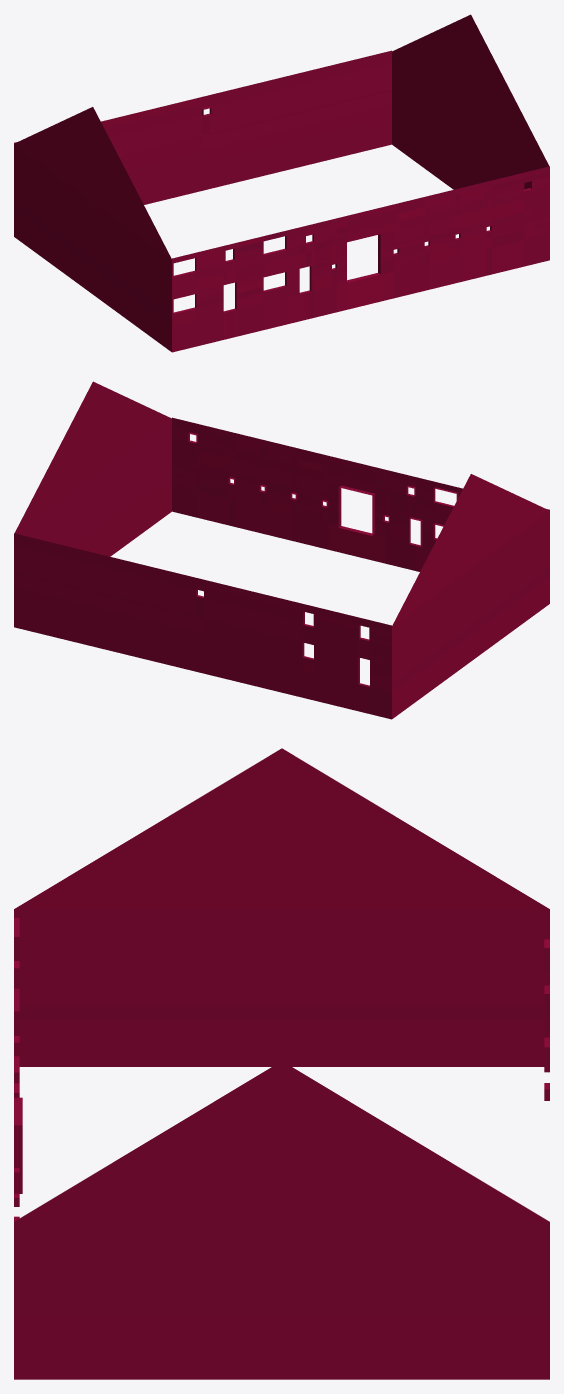
File: SM_Bld_126_Masonry.glb
The picture shows the model from 3 angles, top to bottom: view 1: azimuth 30°, elevation 25°; view 2: azimuth 150°, elevation 25°; view 3: azimuth 270°, elevation 25°; orthographic projection. The views are drawn at different scales.
Parts seen in each view (by area): view 1: SM_Bld_126_Masonry; view 2: SM_Bld_126_Masonry; view 3: SM_Bld_126_Masonry.
Boxes of the visible parts, bbox=[...] form: SM_Bld_126_Masonry: bbox=[14, 14, 549, 352]; SM_Bld_126_Masonry: bbox=[14, 381, 549, 719]; SM_Bld_126_Masonry: bbox=[14, 748, 549, 1379].
Bounding box in the file's own units: 29.32 × 13.94 × 21.24.
